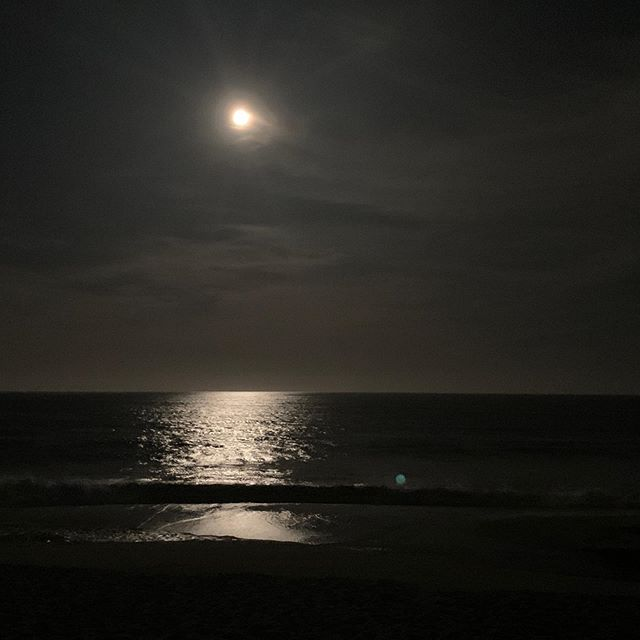sea: (12, 391, 634, 513)
sky: (1, 1, 634, 389)
sun: (219, 101, 261, 136)
